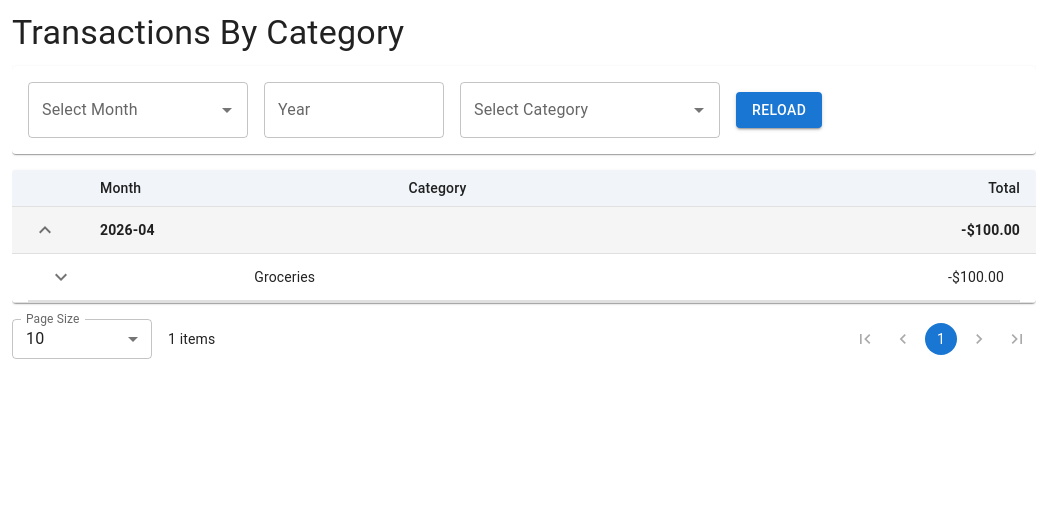
TransactionCategoryTotalsPage › expands a row and shows fetched details
Click the button named "Expand row".
click(61, 277)  # box [44,260,78,294]
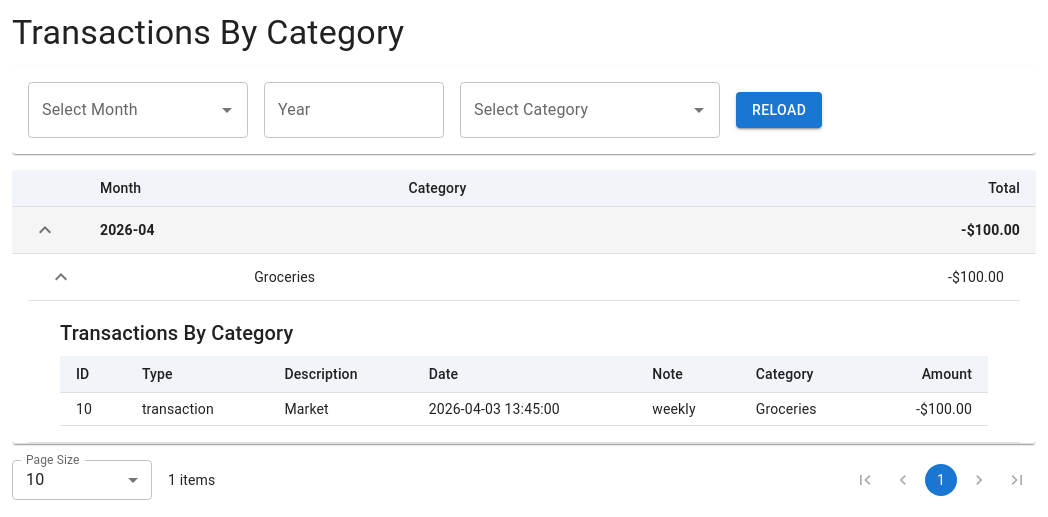
expect the text "Market" is shown: met, box [268,392,413,425]
expect the text "2026-04-03 13:45:00" is shown: met, box [413,392,636,425]
expect the text "weekly" is shown: met, box [636,392,740,425]
